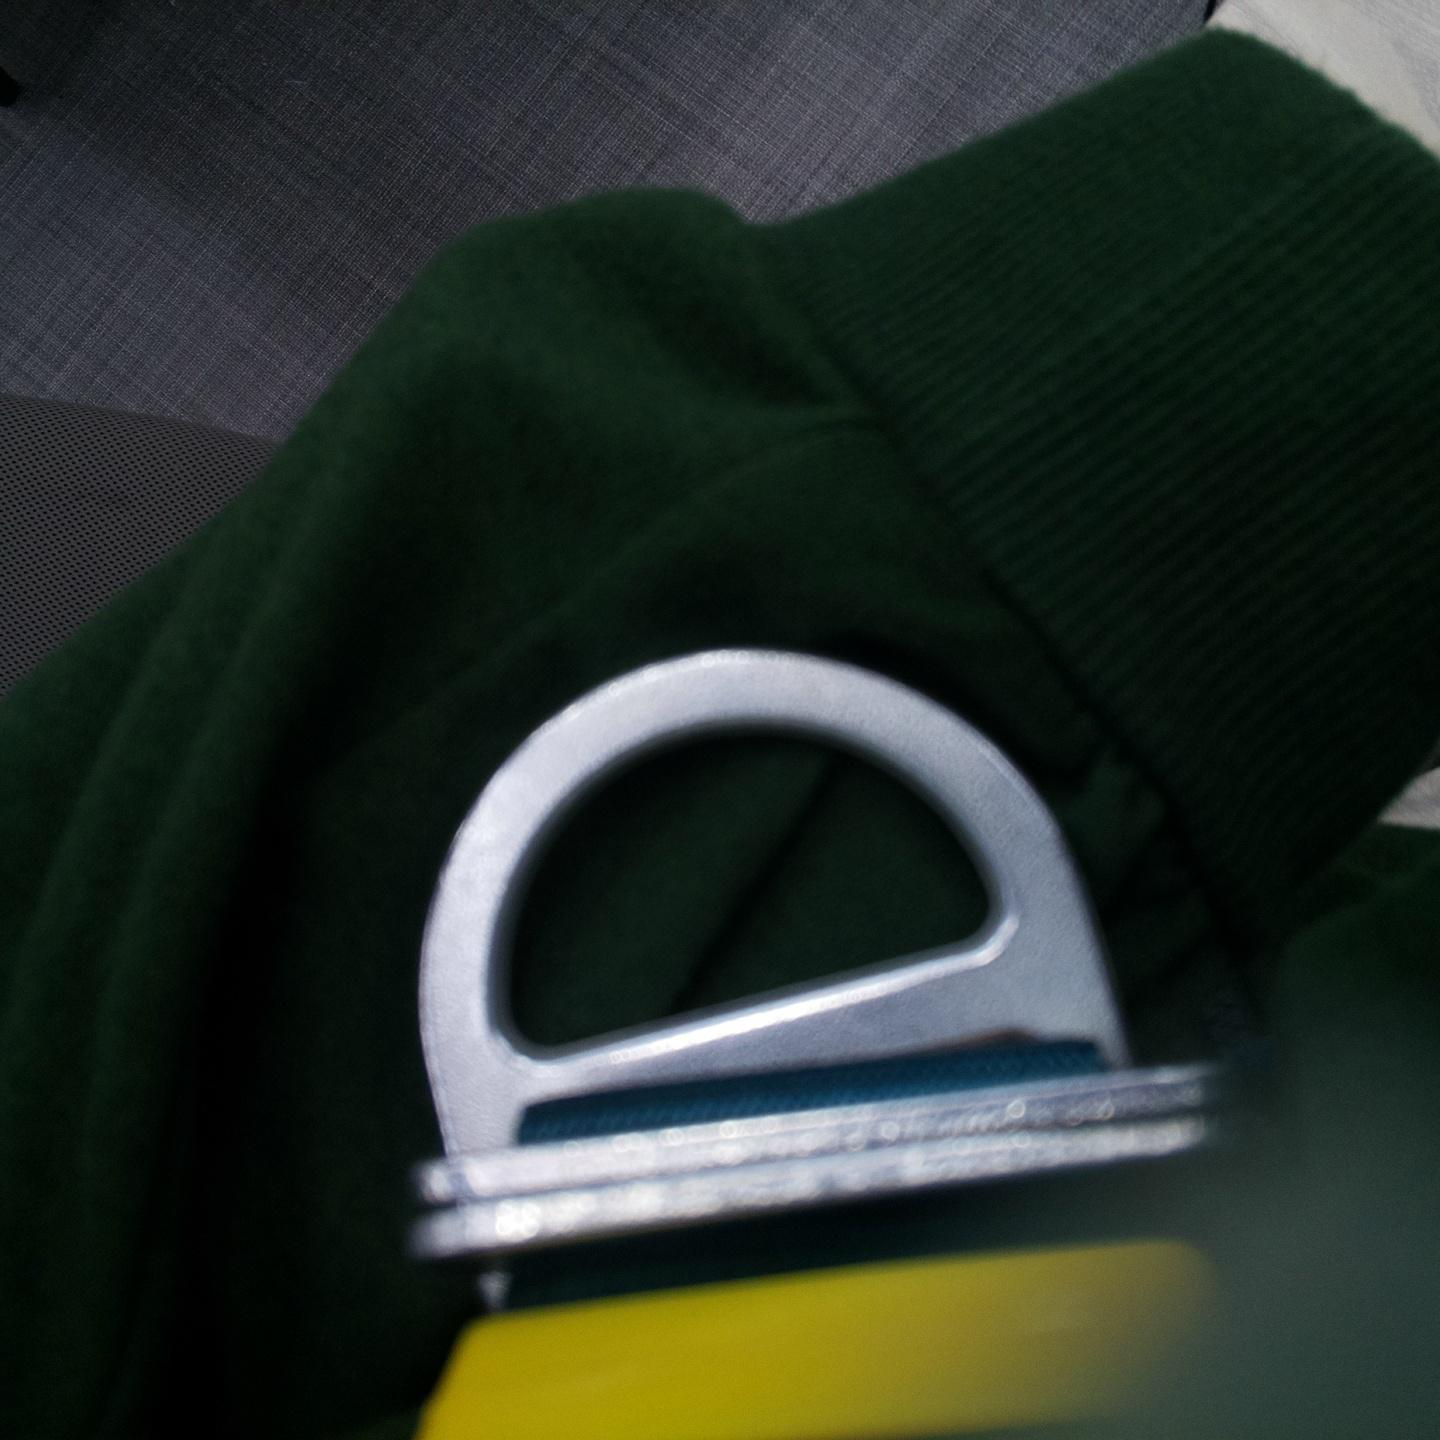UNSUCCESS: (407, 645, 1106, 1083)
